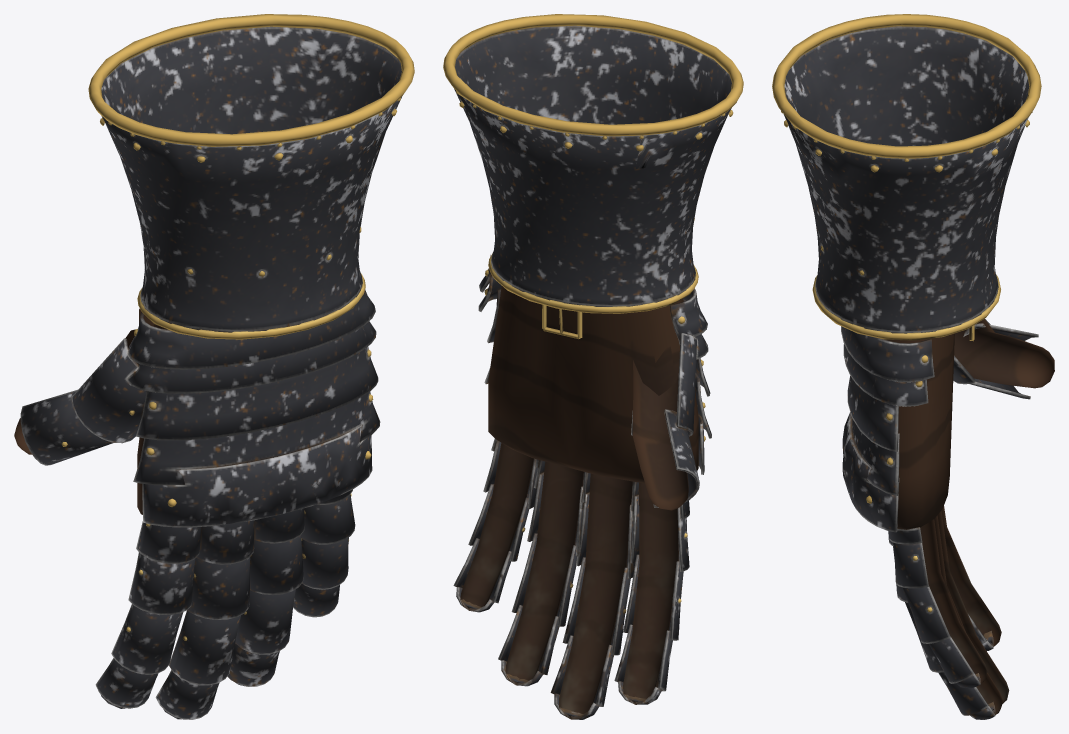
The model's file is SM_EagleGauntlets_R_LOD1.fbx.
3 renders of one model, left to right at view 1: azimuth 30°, elevation 25°; view 2: azimuth 150°, elevation 25°; view 3: azimuth 270°, elevation 25°, orthographic. The views are drawn at different scales.
Parts seen in each view (by area): view 1: SM_EagleGauntlets_R_LOD1; view 2: SM_EagleGauntlets_R_LOD1; view 3: SM_EagleGauntlets_R_LOD1.
Boxes of the visible parts, left/top/right/bottom form: SM_EagleGauntlets_R_LOD1: left=14, top=14, right=414, bottom=719; SM_EagleGauntlets_R_LOD1: left=443, top=14, right=743, bottom=719; SM_EagleGauntlets_R_LOD1: left=772, top=14, right=1054, bottom=719.
Size of the model in its own units: 0.1484 by 0.2966 by 0.119.
